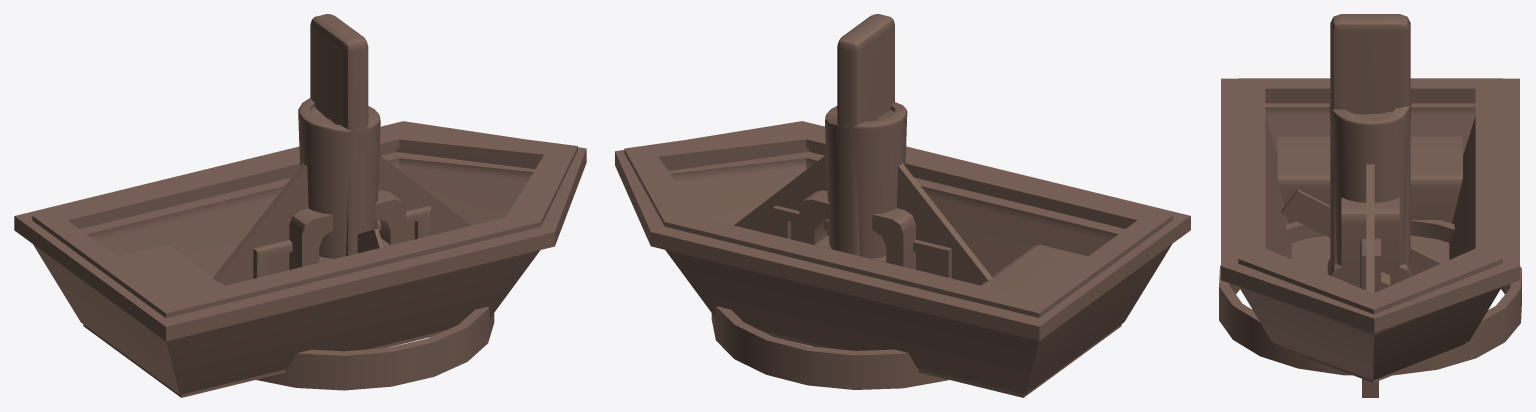
The model's file is 2 for unity.fbx.
3 views of the same model, side by side, from view 1: azimuth 30°, elevation 25°; view 2: azimuth 150°, elevation 25°; view 3: azimuth 270°, elevation 25° (orthographic).
Visible parts, largest first — view 1: boat, well_torus, sm_wood_02, wood_fence, sm_top, house_window, sm_window_inner; view 2: boat, well_torus, sm_wood_02, wood_fence, sm_top, house_window, sm_window_inner; view 3: boat, sm_wood_02, well_torus, wood_fence, house_window, sm_house_prob_1, sm_top, sm_window_inner, door_lock_handle, sm_wood_01.
Part boxes in pixels (x1,y1,x2,y2): boat: (14, 121, 586, 397); well_torus: (256, 306, 494, 390); sm_wood_02: (310, 14, 368, 256); wood_fence: (298, 98, 380, 258); sm_top: (213, 155, 471, 285); house_window: (289, 190, 406, 269); sm_window_inner: (253, 205, 430, 278); boat: (615, 121, 1190, 397); well_torus: (711, 306, 948, 389); sm_wood_02: (837, 14, 894, 255); wood_fence: (825, 102, 907, 258); sm_top: (734, 155, 992, 285); house_window: (799, 190, 915, 269); sm_window_inner: (772, 205, 951, 278); boat: (1221, 78, 1519, 382); sm_wood_02: (1330, 14, 1410, 270); well_torus: (1219, 220, 1521, 375); wood_fence: (1329, 100, 1411, 265); house_window: (1341, 197, 1399, 287); sm_house_prob_1: (1281, 189, 1442, 275); sm_top: (1366, 164, 1374, 293); sm_window_inner: (1360, 238, 1380, 292); door_lock_handle: (1327, 258, 1413, 281); sm_wood_01: (1362, 379, 1378, 397).
Size of what is drawn, in the model's own units: 431 by 266 by 230.
